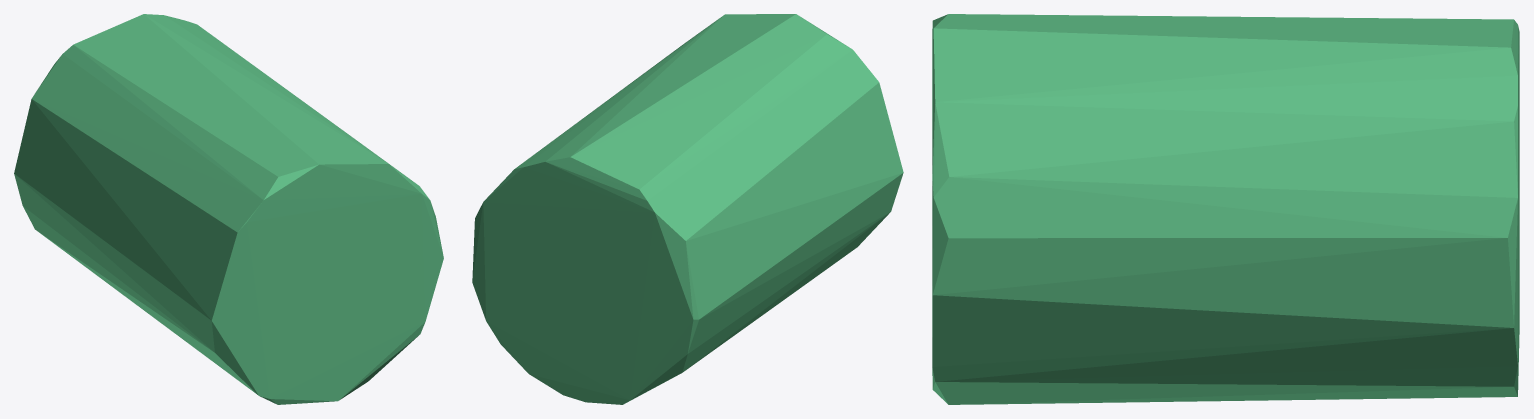
File: food_processed_cannedFood_k01.glb
The picture shows the model from 3 angles, left to right: view 1: azimuth 30°, elevation 25°; view 2: azimuth 150°, elevation 25°; view 3: azimuth 270°, elevation 25°; orthographic projection. The views are drawn at different scales.
Visible parts, largest first — view 1: geometry_0; view 2: geometry_0; view 3: geometry_0.
Boxes of the visible parts, box(x1,y1,x2,y2) form: geometry_0: box(14, 14, 443, 404); geometry_0: box(472, 14, 903, 404); geometry_0: box(932, 14, 1519, 404).
Bounding box in the file's own units: 0.3156 × 0.3142 × 0.48.
